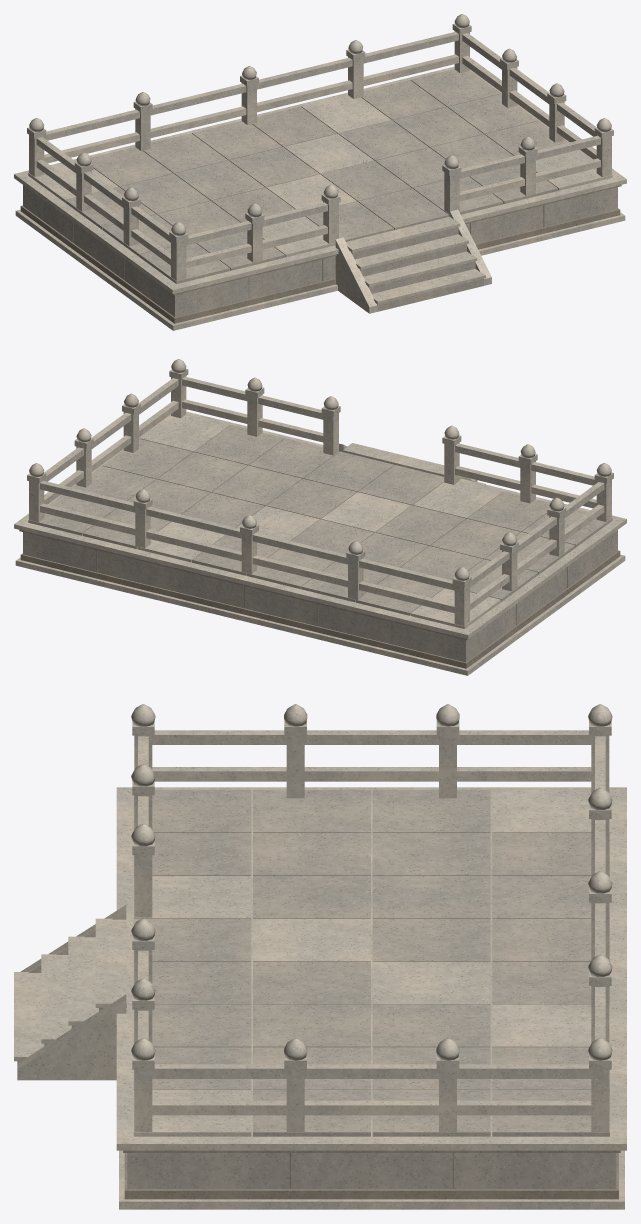
3 views of the same model, one above another, from view 1: azimuth 30°, elevation 25°; view 2: azimuth 150°, elevation 25°; view 3: azimuth 270°, elevation 25° (orthographic). The views are drawn at different scales.
Parts seen in each view (by area): view 1: Paving_stone, PerimeterBalustrade_stonePale, LoadbearingPlinth_stone, LoadbearingPlinth_stonePale, Paving_stonePale, OpenEntry_stonePale, LoadbearingPlinth_carving, OpenEntry_stone; view 2: Paving_stone, PerimeterBalustrade_stonePale, LoadbearingPlinth_stone, LoadbearingPlinth_stonePale, Paving_stonePale, LoadbearingPlinth_carving, OpenEntry_stonePale; view 3: Paving_stone, PerimeterBalustrade_stonePale, LoadbearingPlinth_stonePale, Paving_stonePale, LoadbearingPlinth_stone, OpenEntry_stonePale, LoadbearingPlinth_carving.
Part boxes in pixels (bbox=[...]): Paving_stone: bbox=[65, 69, 568, 283]; PerimeterBalustrade_stonePale: bbox=[27, 14, 613, 280]; LoadbearingPlinth_stone: bbox=[23, 185, 617, 317]; LoadbearingPlinth_stonePale: bbox=[14, 66, 626, 330]; Paving_stonePale: bbox=[28, 95, 612, 257]; OpenEntry_stonePale: bbox=[335, 209, 491, 313]; LoadbearingPlinth_carving: bbox=[20, 185, 621, 323]; OpenEntry_stone: bbox=[351, 227, 483, 311]; Paving_stone: bbox=[28, 425, 612, 615]; PerimeterBalustrade_stonePale: bbox=[27, 359, 613, 625]; LoadbearingPlinth_stone: bbox=[23, 530, 617, 662]; LoadbearingPlinth_stonePale: bbox=[14, 411, 626, 675]; Paving_stonePale: bbox=[137, 414, 503, 628]; LoadbearingPlinth_carving: bbox=[19, 530, 620, 668]; OpenEntry_stonePale: bbox=[339, 443, 485, 484]; Paving_stone: bbox=[133, 790, 609, 1136]; PerimeterBalustrade_stonePale: bbox=[131, 704, 612, 1131]; LoadbearingPlinth_stonePale: bbox=[116, 787, 626, 1209]; Paving_stonePale: bbox=[133, 790, 609, 1136]; LoadbearingPlinth_stone: bbox=[127, 1153, 616, 1189]; OpenEntry_stonePale: bbox=[14, 905, 126, 1080]; LoadbearingPlinth_carving: bbox=[123, 1150, 620, 1199].
Size of the model in its own units: 7.9 by 1.66 by 5.74.
Materials: 3 (3 with a texture image).
